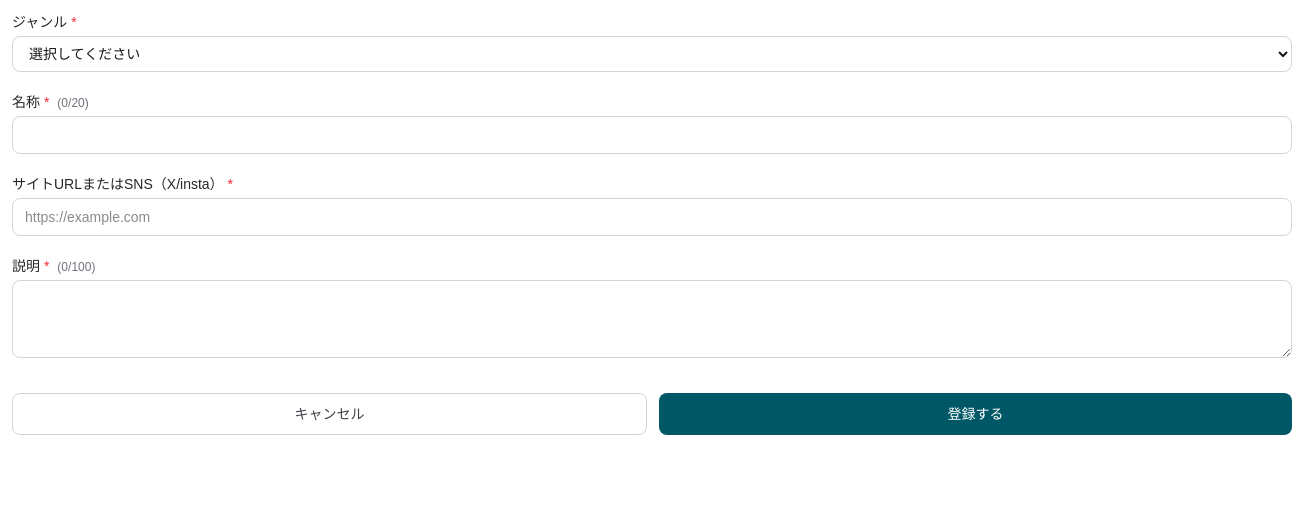
Test: ListingForm › 必須未入力ならエラー表示して送信しない
Click the button "登録する". click: point(976, 414)
box: [659,393,1292,435]
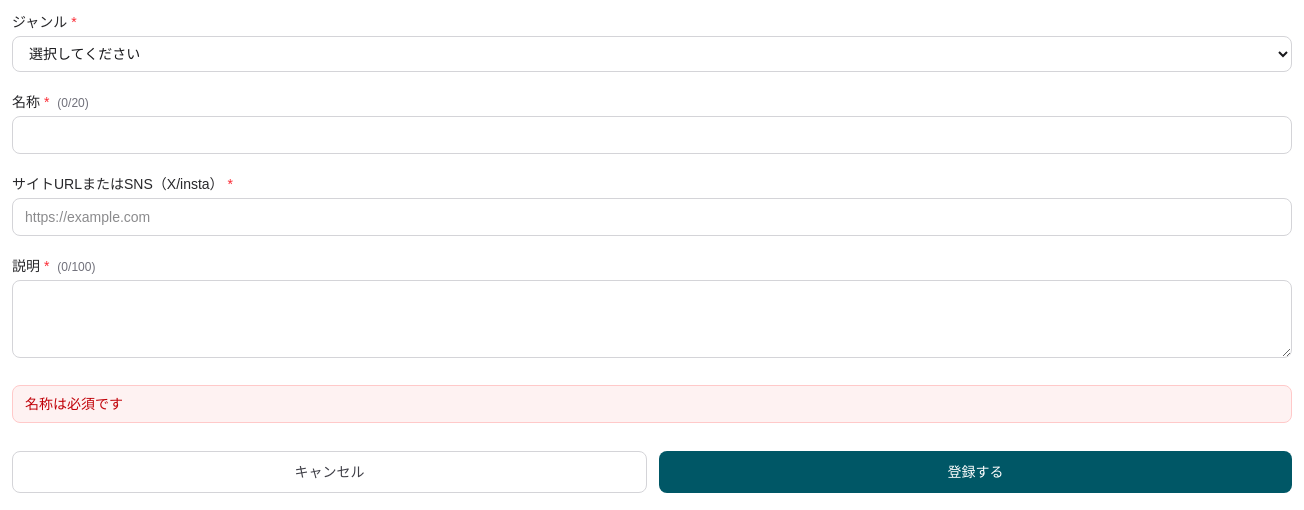
expect the text "名称は必須です" is shown: met, box [12,385,1292,423]
